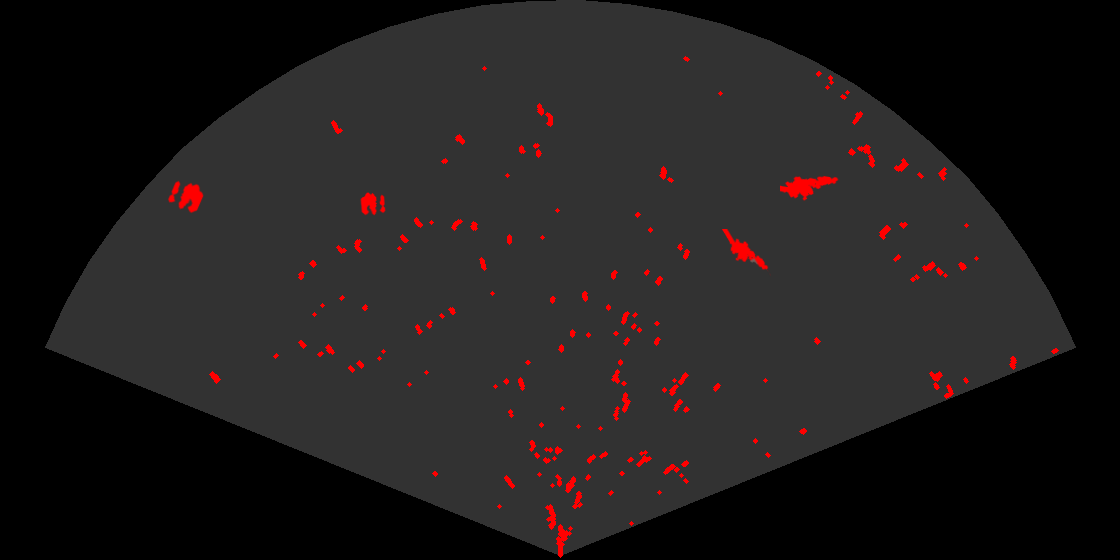ball: (166, 179, 205, 215), (359, 191, 387, 217)
frogman: (722, 229, 771, 277), (780, 174, 840, 202)
